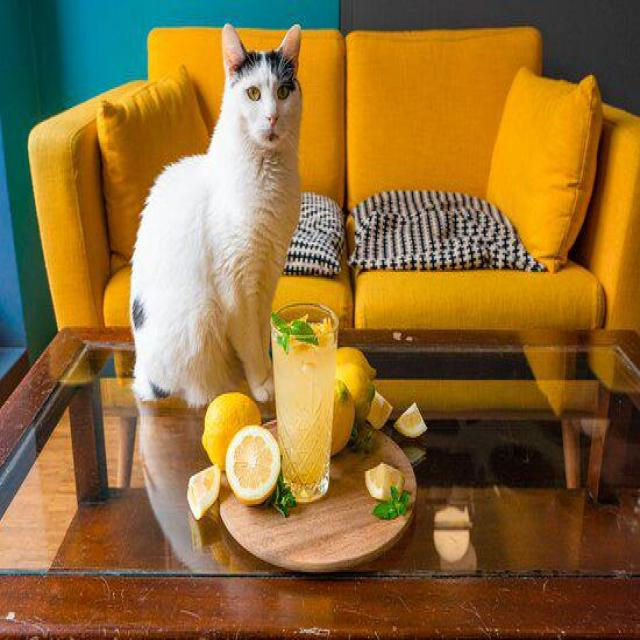Cat: (213, 17, 313, 150)
